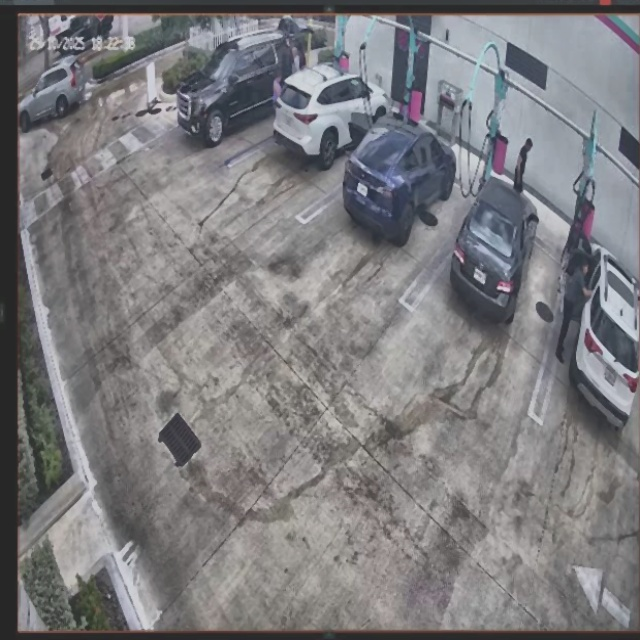Car: (344, 114, 456, 241), (452, 176, 538, 326), (274, 71, 388, 168)
